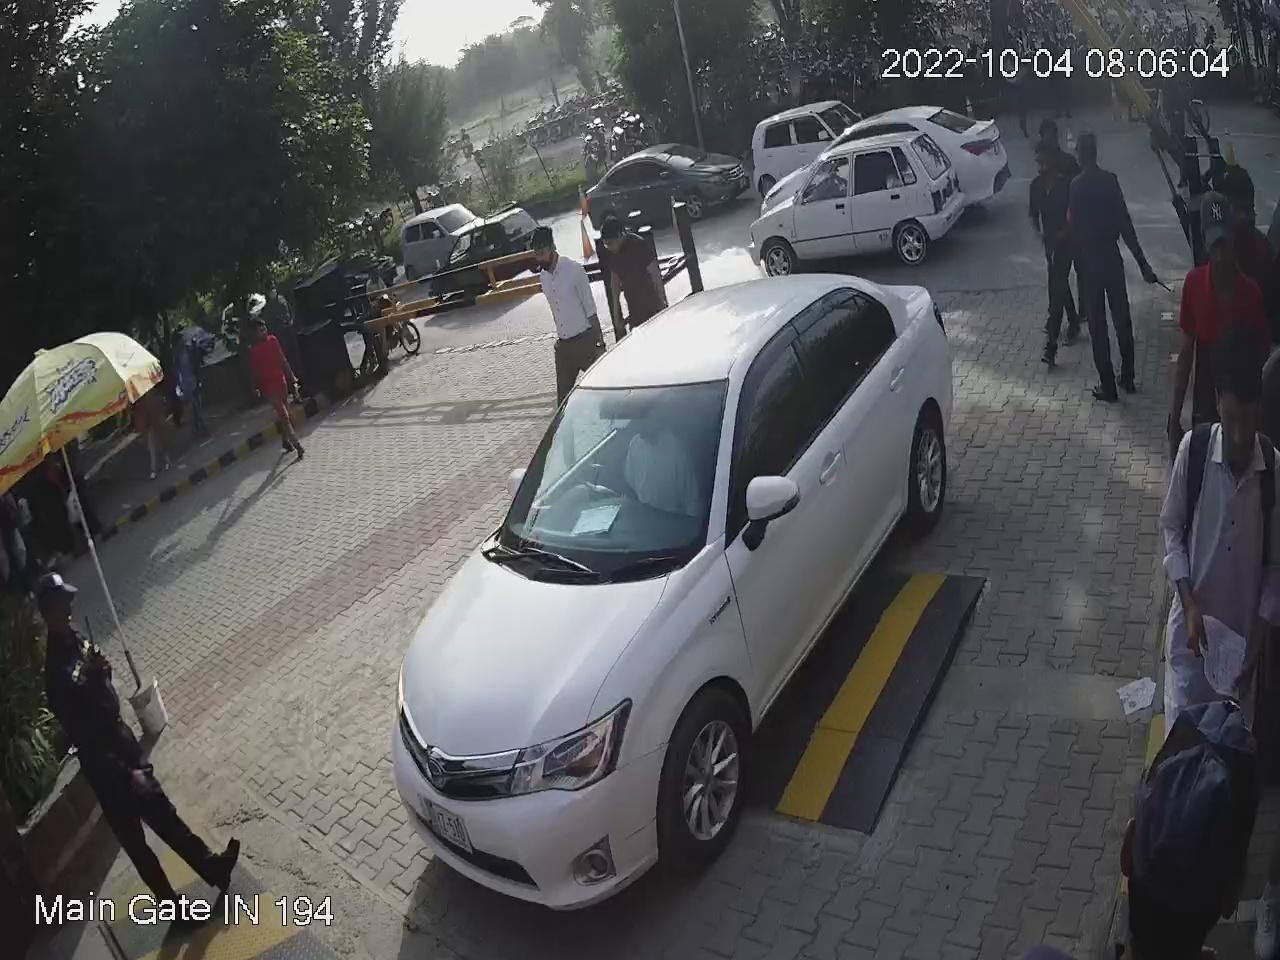windshield: (491, 370, 731, 578)
